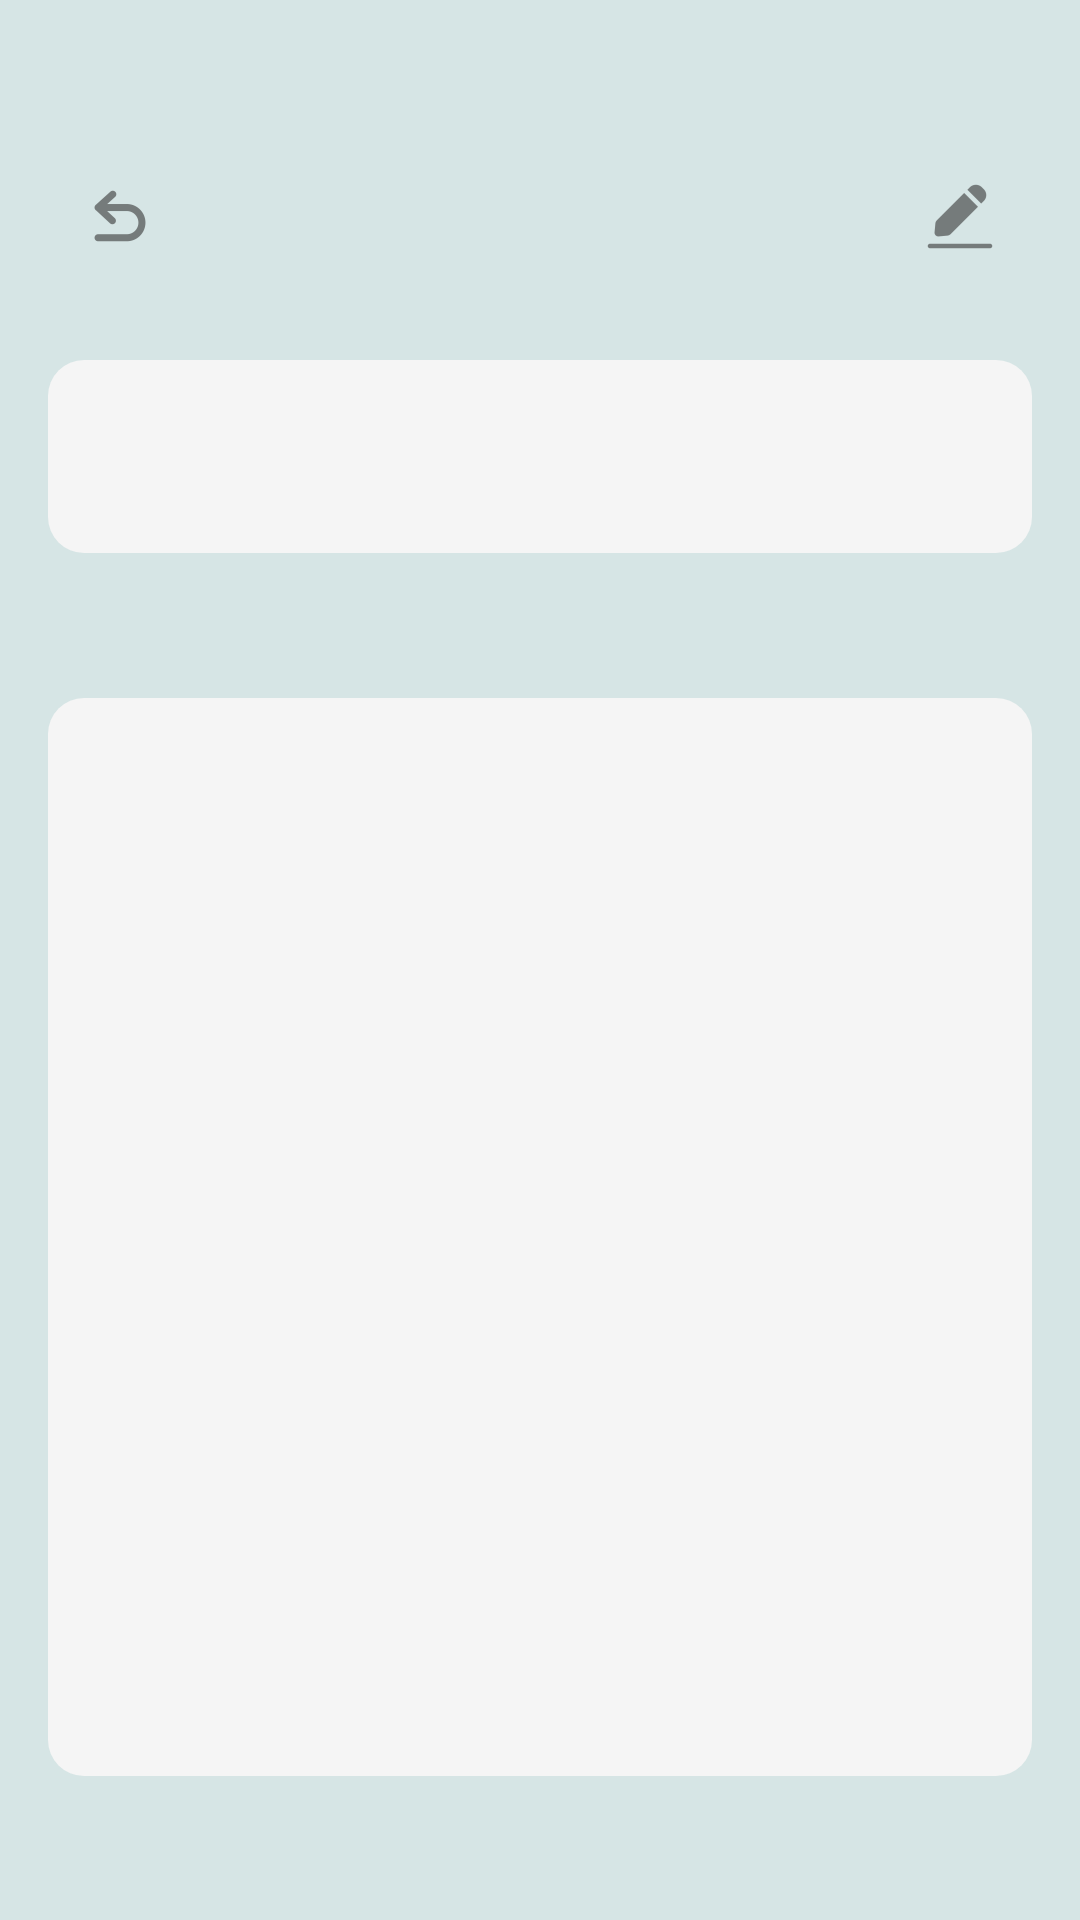

Where to tap for icons on this 1080×1920 app screen, as [x,y]:
Back: [120,216]
Edit: [960,217]
